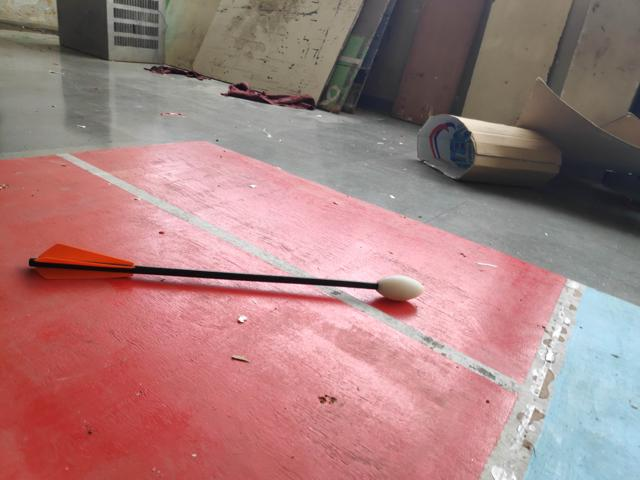Head: (374, 274, 424, 303)
